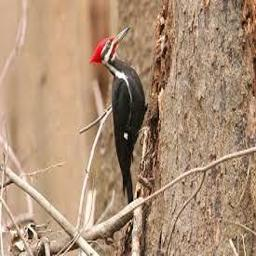Woodpecker: (90, 27, 147, 205)
